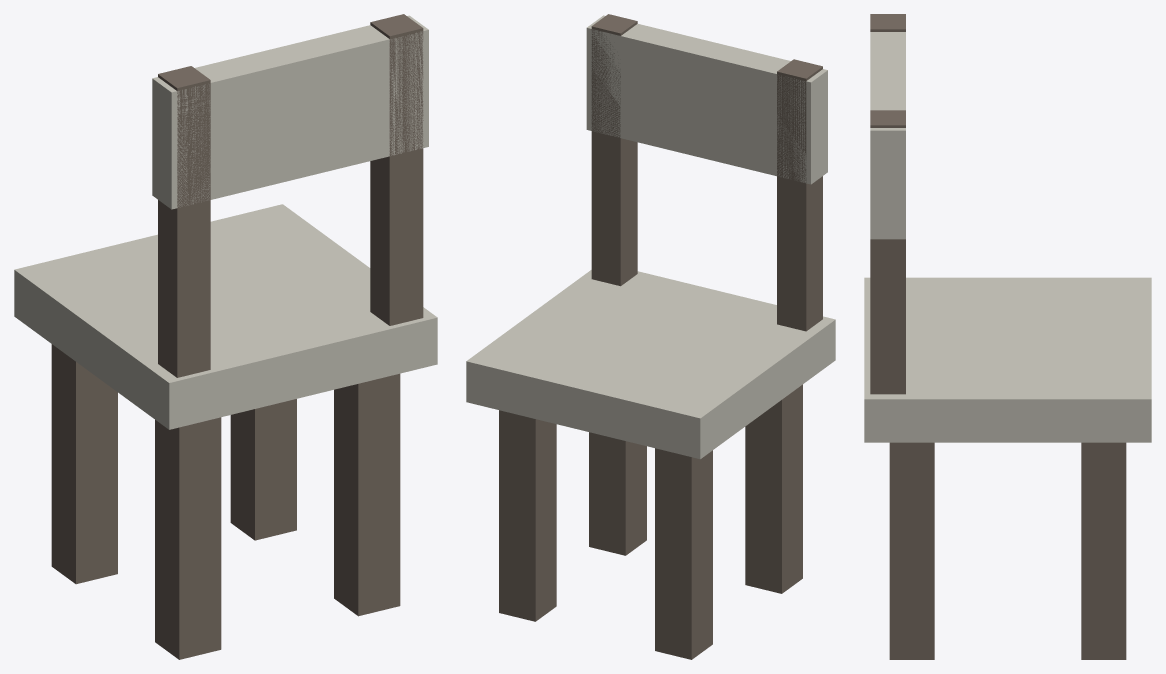
The model's file is chair_plastic.glb.
3 renders of one model, left to right at view 1: azimuth 30°, elevation 25°; view 2: azimuth 150°, elevation 25°; view 3: azimuth 270°, elevation 25°, orthographic. The views are drawn at different scales.
Parts seen in each view (by area): view 1: body; view 2: body; view 3: body.
Boxes of the visible parts, x1,y1,x2,y2 form: body: (14,14,437,659); body: (466,14,835,659); body: (864,14,1151,659).
Size of the model in its own units: 0.48 by 0.995 by 0.48.
